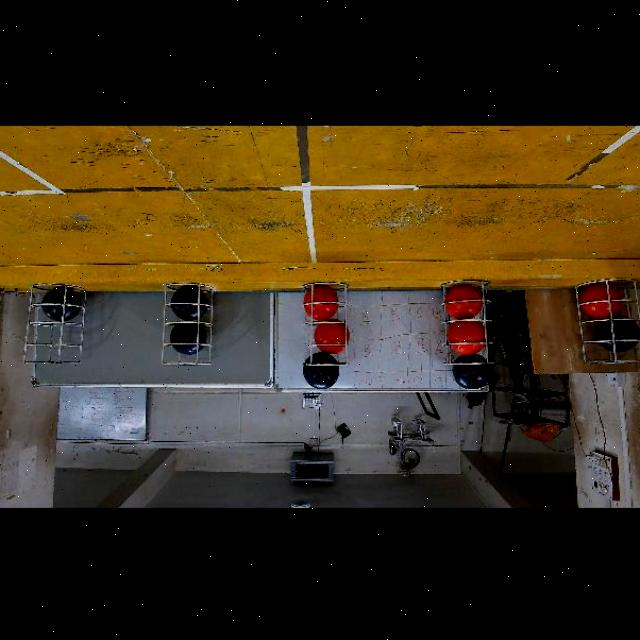P: (596, 315, 640, 352), (41, 286, 82, 322), (303, 351, 340, 390), (452, 354, 490, 390), (171, 285, 208, 321), (170, 323, 207, 355)
R: (579, 282, 623, 319), (313, 319, 351, 355), (449, 321, 489, 355), (304, 285, 339, 321), (446, 285, 482, 319)
S: (574, 276, 640, 366), (22, 283, 88, 367), (160, 280, 218, 366), (441, 278, 497, 366), (300, 280, 352, 368)
